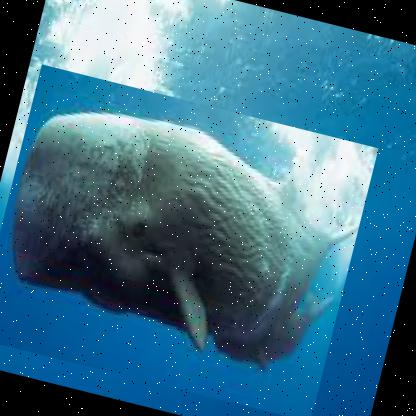sperm_whale: (0, 64, 380, 415)
